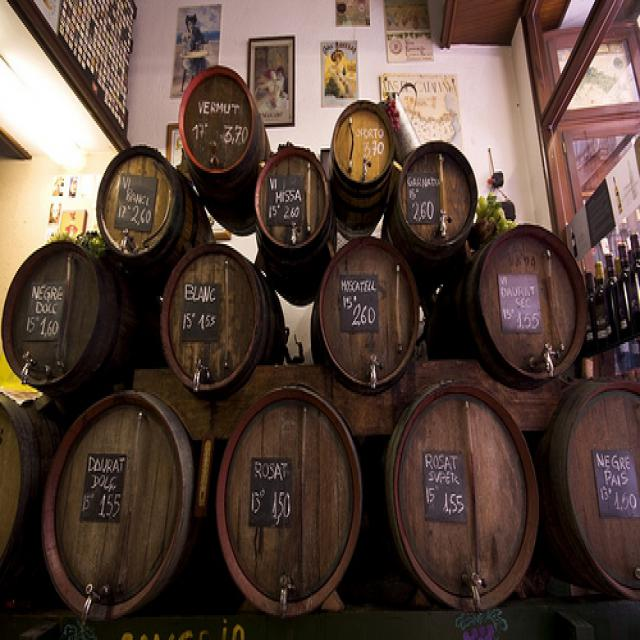barrel: (1, 390, 68, 588)
barrel crop: (383, 379, 538, 611), (214, 384, 366, 619), (40, 388, 196, 609), (426, 217, 585, 386), (0, 234, 154, 392), (531, 375, 637, 600), (157, 238, 285, 400), (306, 234, 419, 392), (93, 142, 207, 290), (178, 62, 270, 233), (383, 138, 474, 300), (252, 142, 334, 302), (326, 98, 394, 238)
bottles occluded: (581, 231, 639, 352)
picture of flag: (246, 31, 294, 125)
poster: (379, 67, 460, 154)
poster crop: (320, 38, 357, 104)
support: (0, 598, 637, 636)
wall clock: (512, 0, 639, 598), (9, 0, 133, 144)
